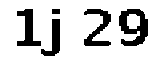1: (14, 8, 46, 50)
2: (79, 5, 118, 50)
9: (119, 7, 152, 52)
j: (41, 3, 69, 60)
